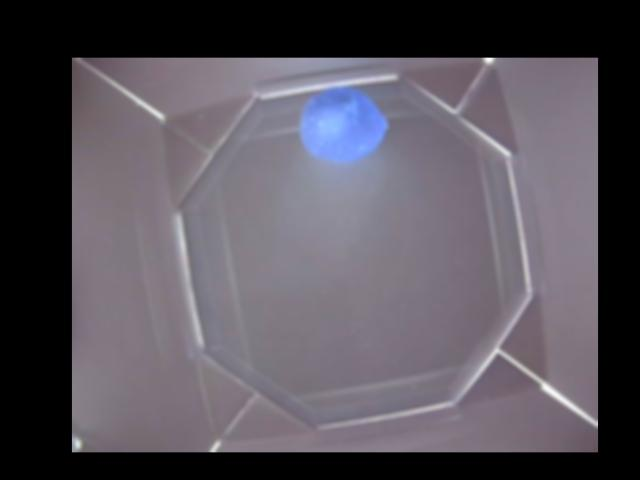Potato: (300, 89, 390, 160)
